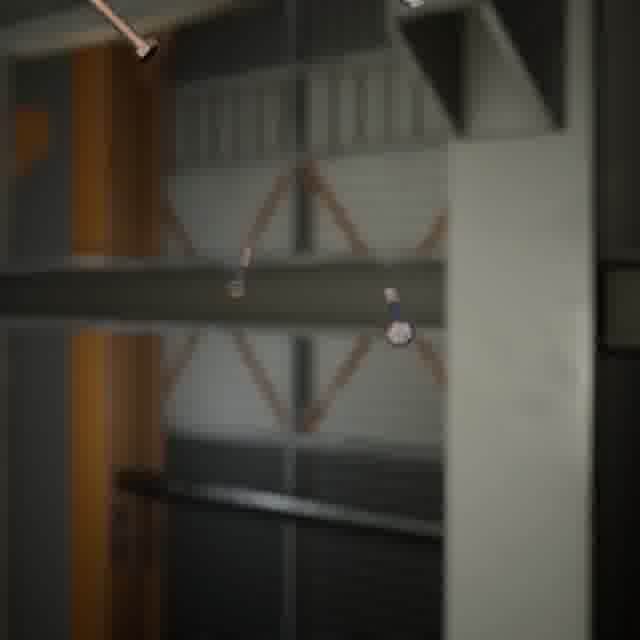bolt: (80, 0, 163, 67), (379, 282, 419, 350), (222, 238, 258, 302)
